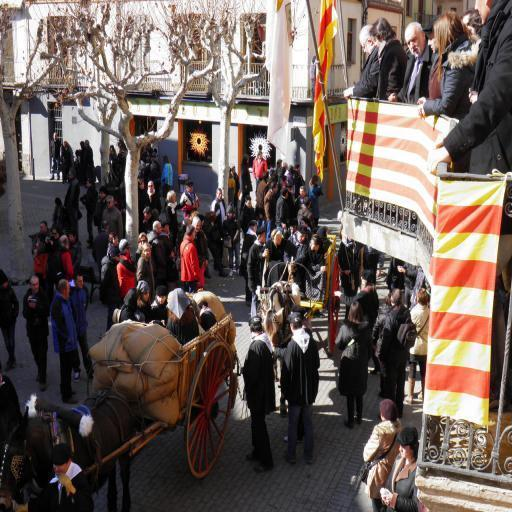horse: (0, 388, 132, 512), (260, 280, 300, 380)
